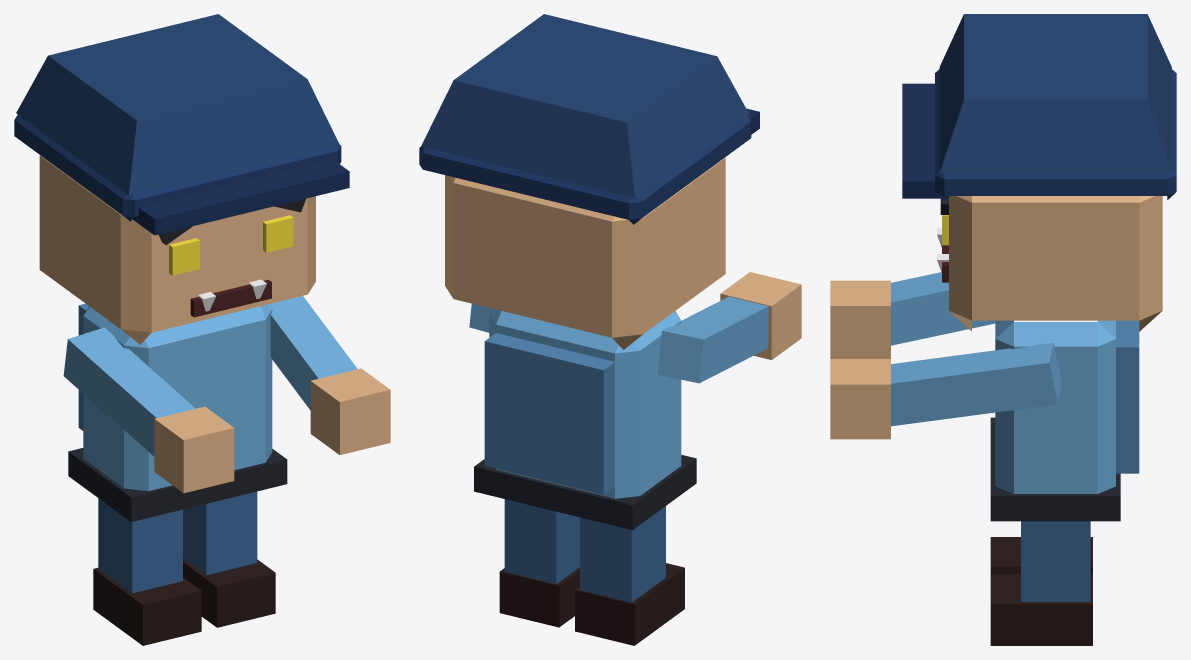
Rendered from grunt_r2.glb.
3 renders of one model, left to right at view 1: azimuth 30°, elevation 25°; view 2: azimuth 150°, elevation 25°; view 3: azimuth 270°, elevation 25°, orthographic. The views are drawn at different scales.
Visible parts, largest first — view 1: grunt_r2_mesh; view 2: grunt_r2_mesh; view 3: grunt_r2_mesh.
Boxes of the visible parts, x1=… form: grunt_r2_mesh: x1=14, y1=14, x2=390, y2=645; grunt_r2_mesh: x1=419, y1=14, x2=801, y2=645; grunt_r2_mesh: x1=830, y1=14, x2=1176, y2=645.
Size of the model in its own units: 0.6586 by 1.5 by 0.8466.
Materials: 1 (1 with a texture image).
